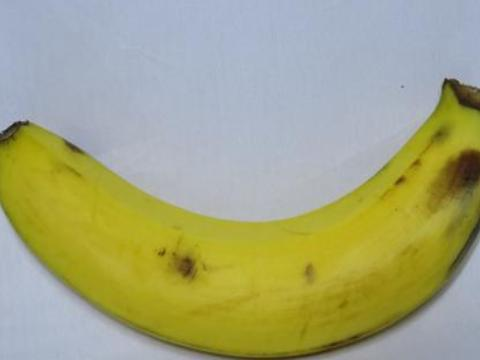freshripe: (0, 51, 479, 359)
